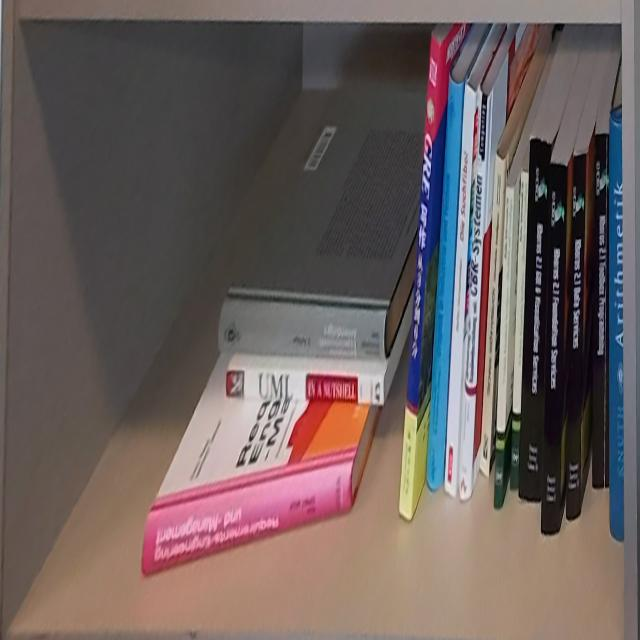Book Spine: (141, 458, 353, 578), (399, 34, 441, 523), (425, 71, 464, 491), (442, 84, 477, 502), (459, 86, 491, 504), (519, 138, 551, 502), (217, 297, 389, 362), (541, 163, 568, 536), (480, 152, 505, 481), (567, 152, 587, 520), (494, 187, 514, 511), (610, 115, 625, 542), (510, 170, 529, 492), (592, 133, 609, 489), (226, 372, 385, 408)
